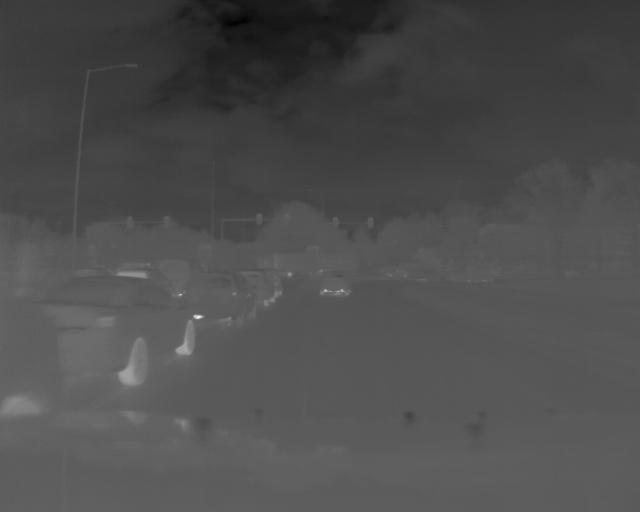car: (37, 278, 201, 387), (185, 268, 260, 325), (315, 269, 354, 300)
